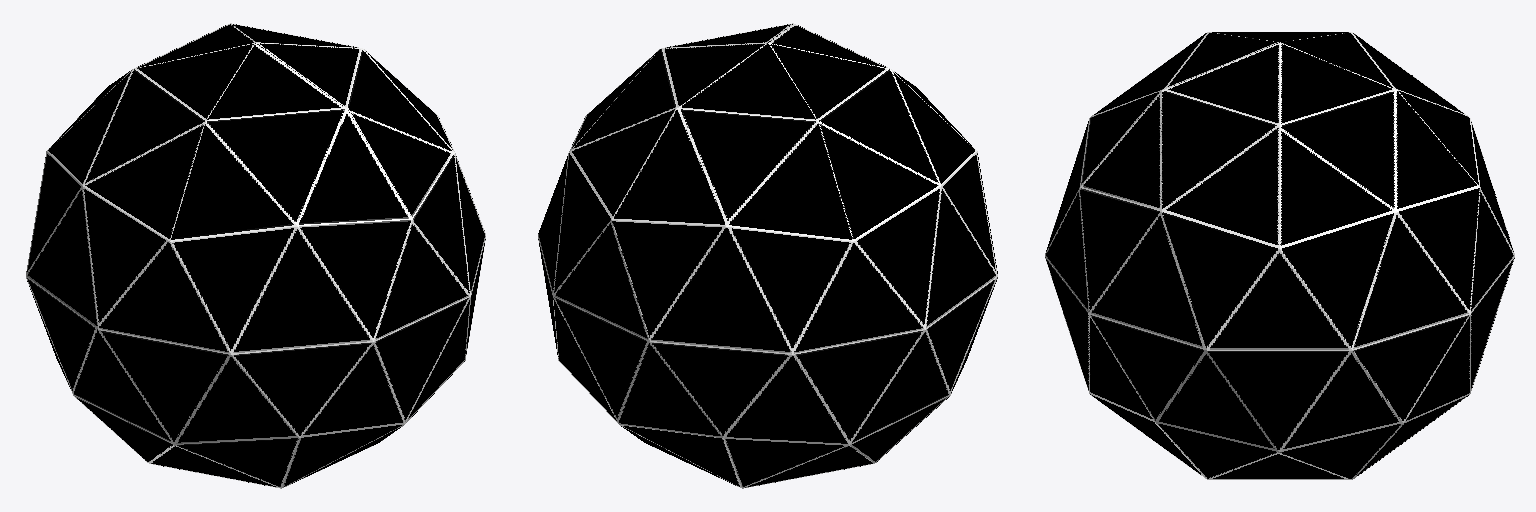
3 renders of one model, left to right at view 1: azimuth 30°, elevation 25°; view 2: azimuth 150°, elevation 25°; view 3: azimuth 270°, elevation 25°, orthographic.
Parts seen in each view (by area): view 1: ICO球; view 2: ICO球; view 3: ICO球.
Part boxes in pixels (bbox=[...]): ICO球: bbox=[26, 23, 485, 488]; ICO球: bbox=[538, 23, 997, 488]; ICO球: bbox=[1045, 32, 1514, 479].
Size of the model in its own units: 7614 by 8005 by 8005.
Materials: 1 (1 with a texture image).